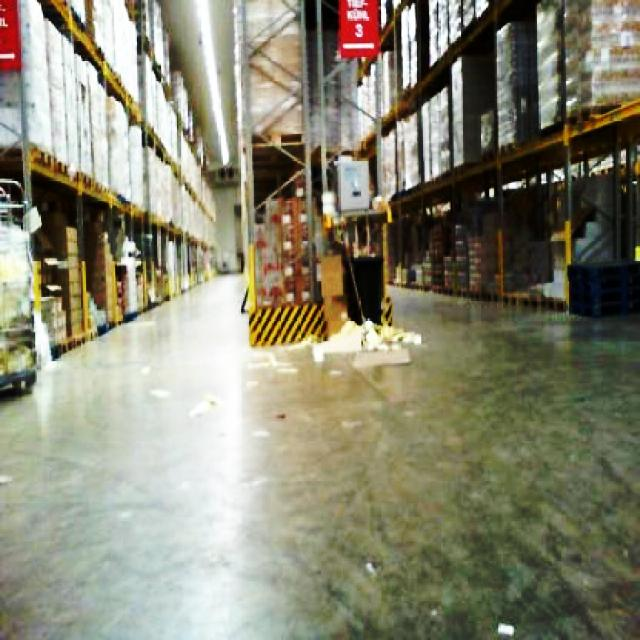ground: (0, 268, 638, 638)
pallet: (348, 0, 638, 320), (245, 132, 334, 346), (0, 174, 38, 422), (252, 192, 317, 306), (566, 257, 638, 317), (246, 297, 328, 346)
